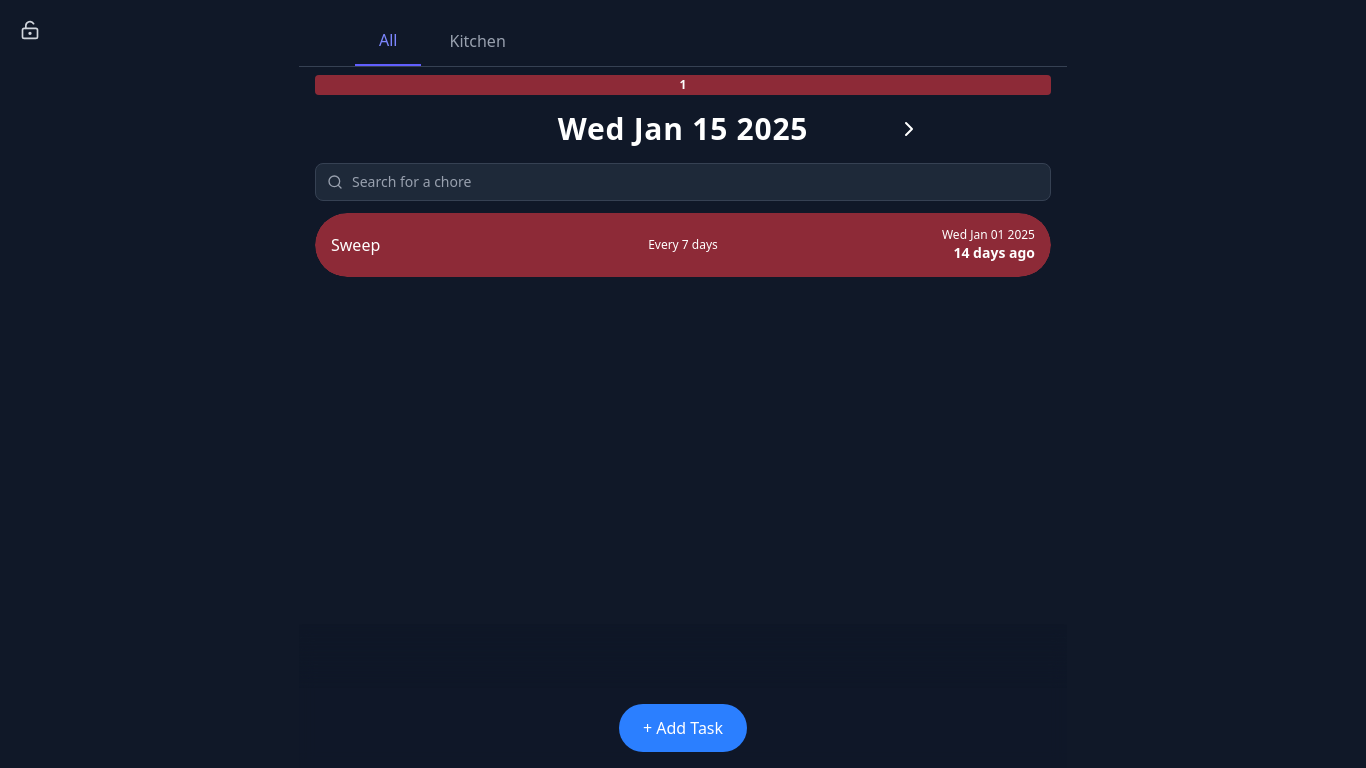
Test case: screen blank overlay wiring › auto-dismisses an open add-chore form when isBlanked flips true (DD-6)
Click the button "+ Add Task" at (683, 728), box [619,704,747,752]
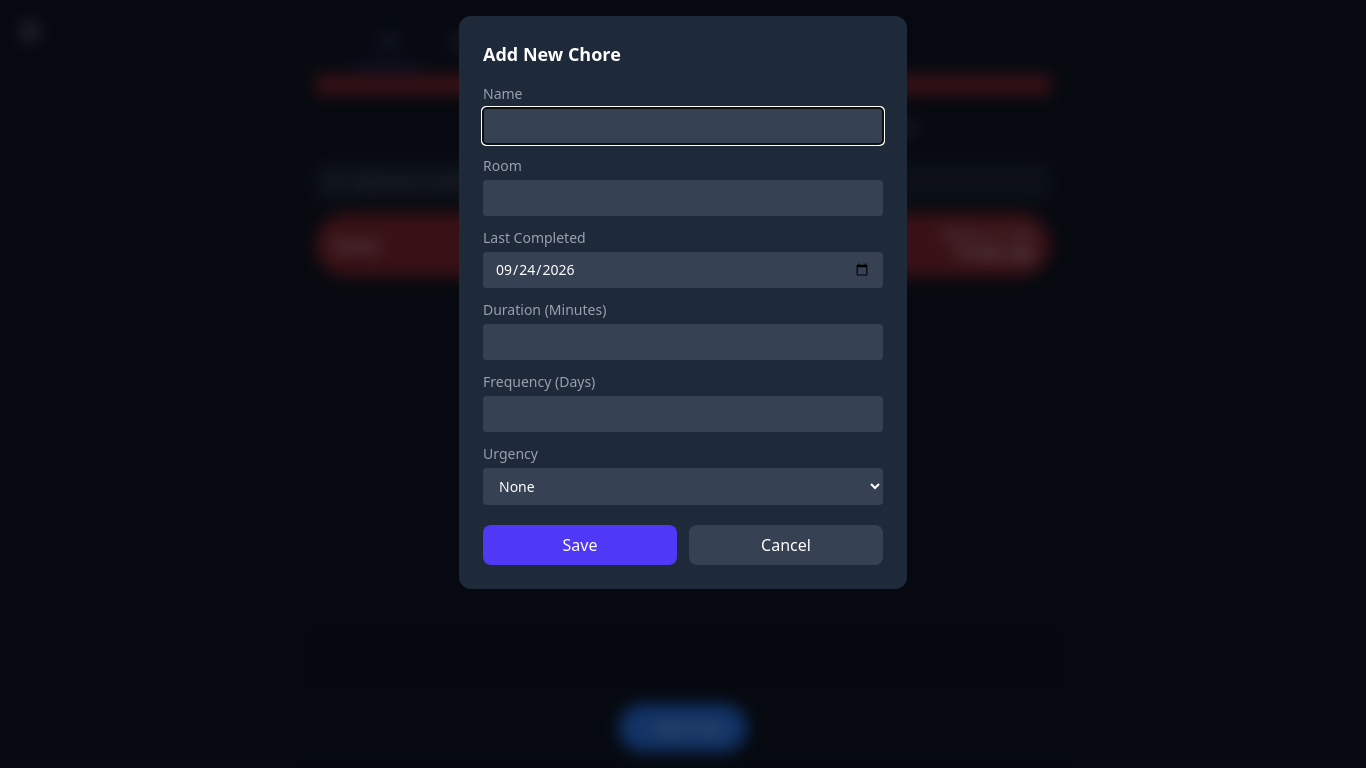
Expected: the heading "Add New Chore" is shown, [483,42,621,66]
